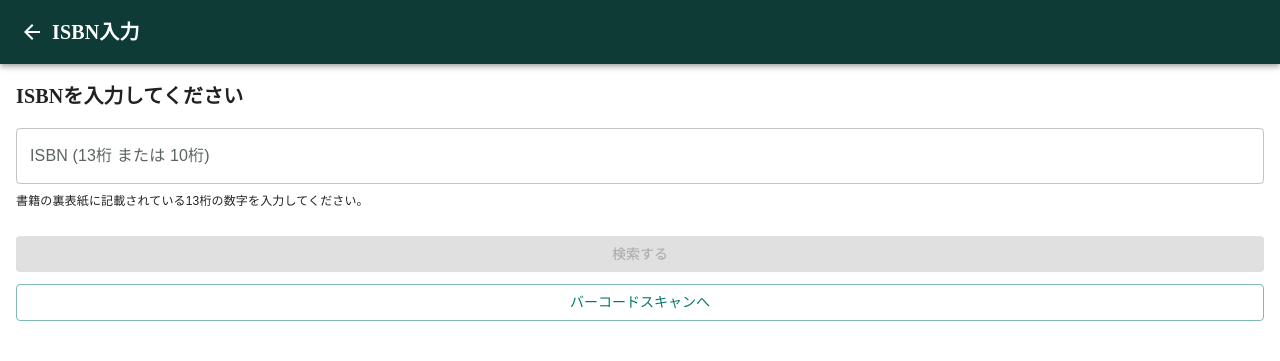
IsbnInputPage › 無効なISBN入力時にエラーメッセージが表示される
Type "9784873117585" into the field.
click(640, 156); type("9784873117585")  # box [16,128,1264,184]
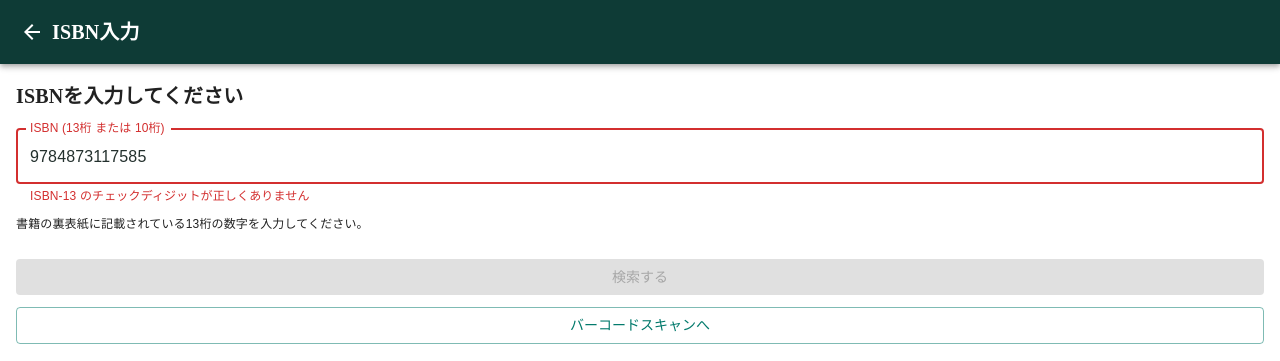
Expected: the text "ISBN-13 のチェックディジットが正しくありません" is shown, [30,189,310,203]
